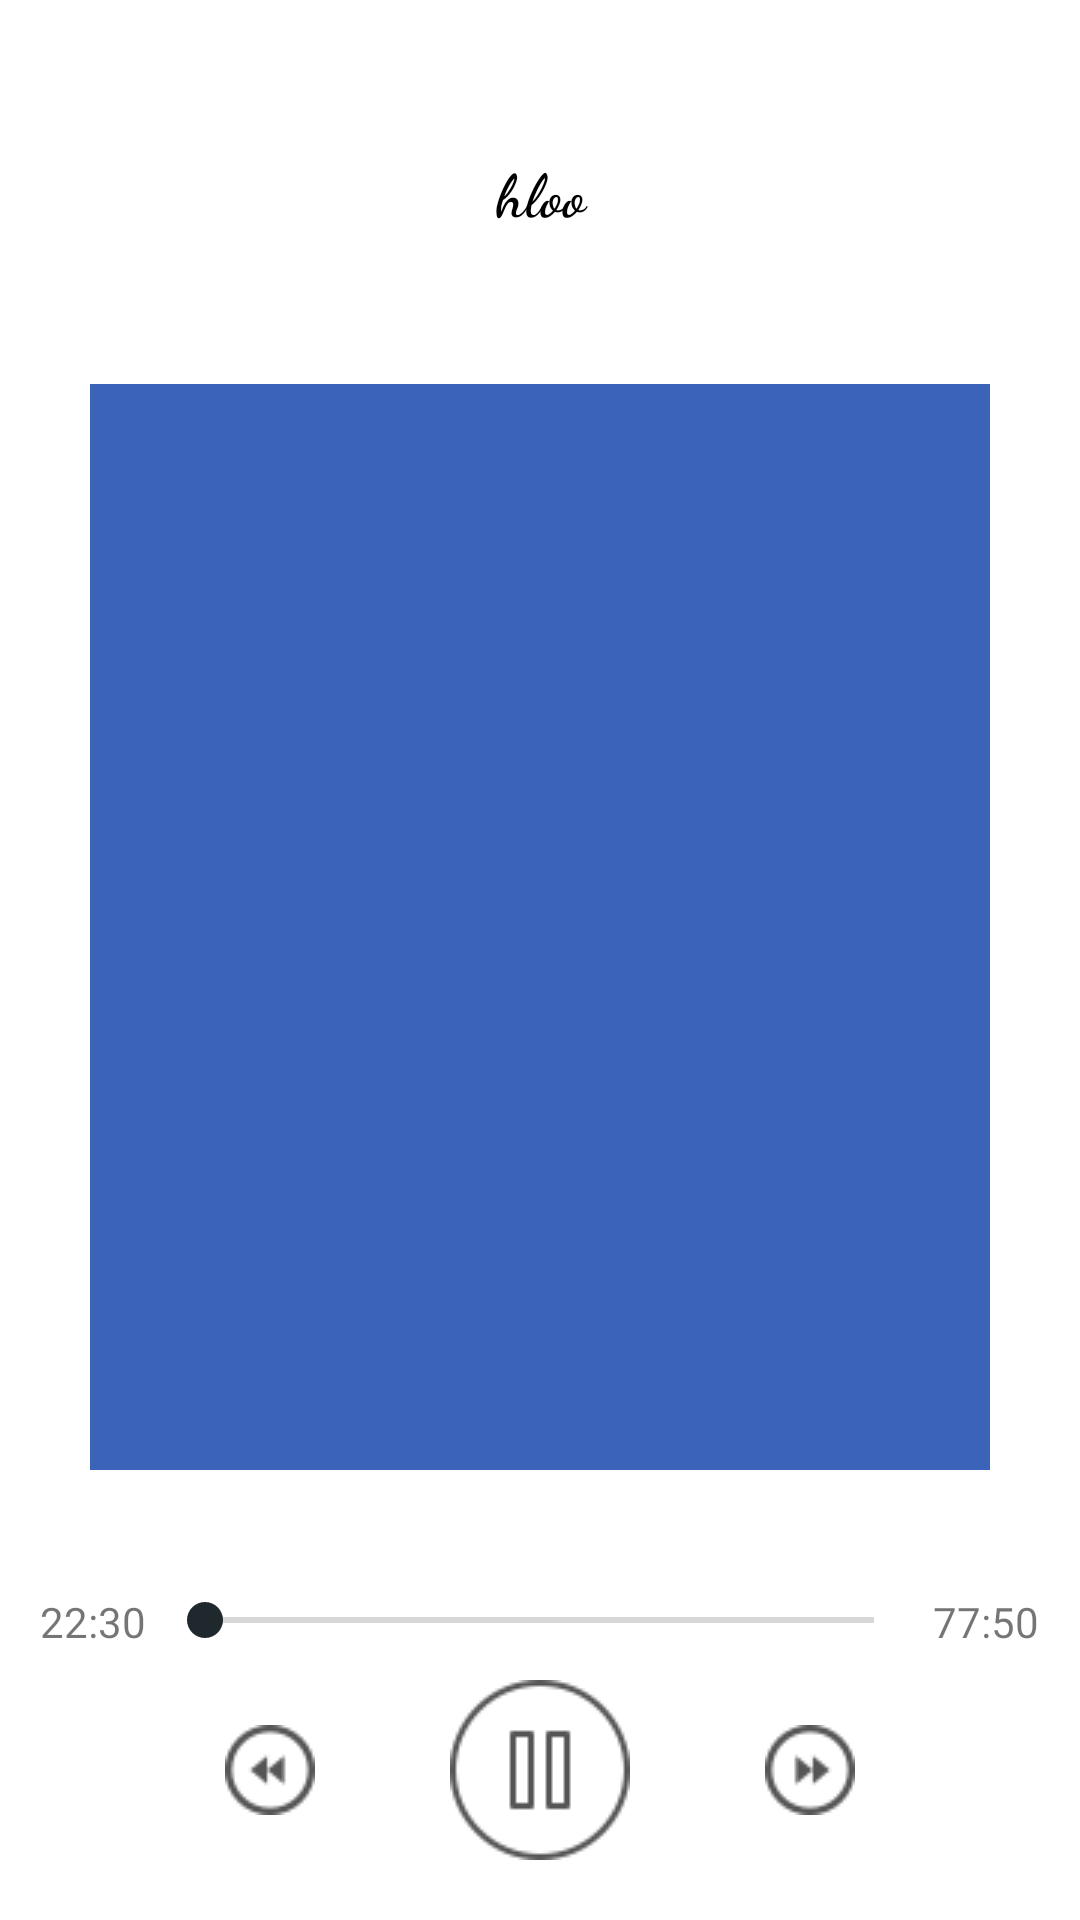

Screen size 1080px×1920px. Icon name, then its center in pixels as point (x, y):
backward: point (270, 1770)
forward: point (810, 1770)
pause: point (540, 1770)
